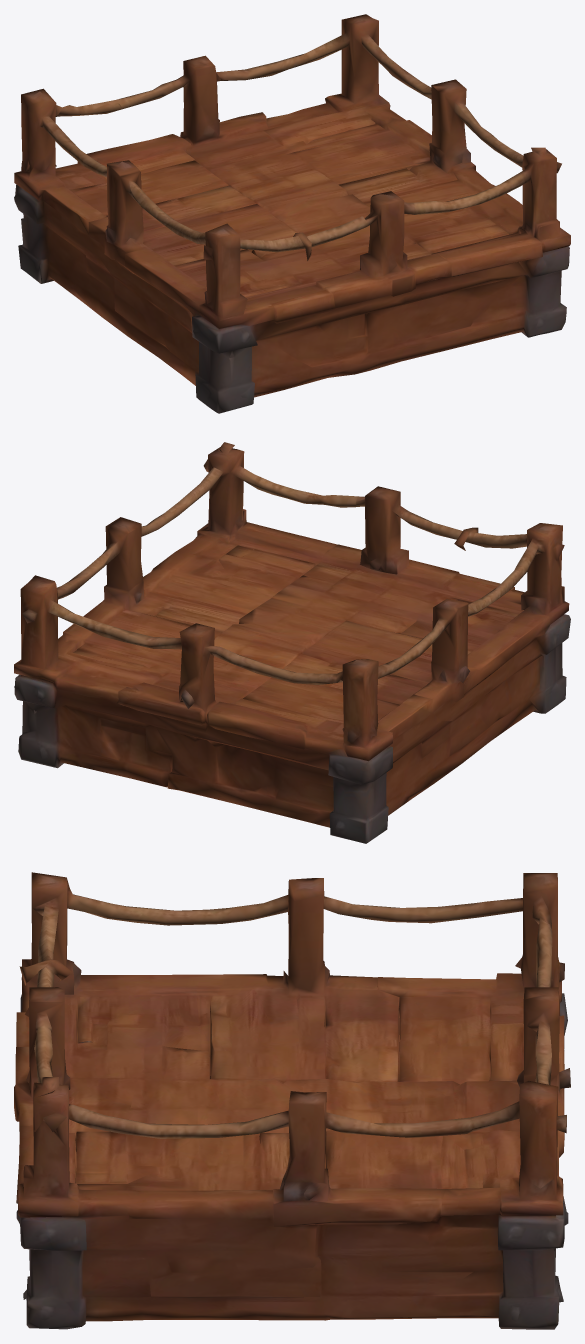
The model's file is lift_platform.glb.
The picture shows the model from 3 angles, top to bottom: view 1: azimuth 30°, elevation 25°; view 2: azimuth 150°, elevation 25°; view 3: azimuth 270°, elevation 25°; orthographic projection. The views are drawn at different scales.
Visible parts, largest first — view 1: tripo_node_21e66f0e-6934-4bdd-a539-8940bc6091c7; view 2: tripo_node_21e66f0e-6934-4bdd-a539-8940bc6091c7; view 3: tripo_node_21e66f0e-6934-4bdd-a539-8940bc6091c7.
Boxes of the visible parts, box(x1,y1,x2,y2) form: tripo_node_21e66f0e-6934-4bdd-a539-8940bc6091c7: box(14, 14, 570, 413); tripo_node_21e66f0e-6934-4bdd-a539-8940bc6091c7: box(14, 442, 570, 843); tripo_node_21e66f0e-6934-4bdd-a539-8940bc6091c7: box(14, 872, 570, 1329).
Bounding box in the file's own units: 1 × 0.4772 × 0.9997.
Materials: 1 (1 with a texture image).
